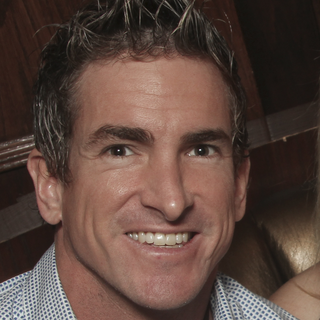eye: (96, 140, 144, 164), (182, 138, 227, 163)
